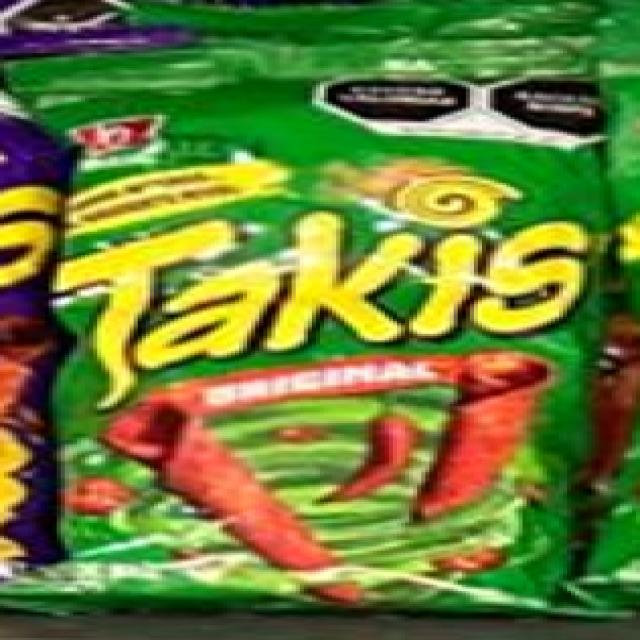takisOriginal: (81, 67, 598, 610)
